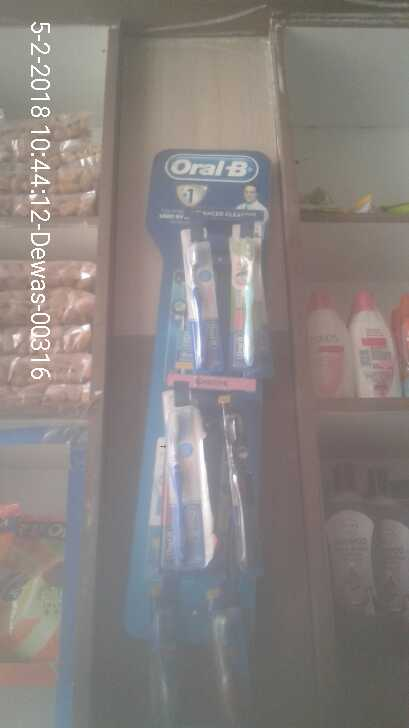oralb: (178, 223, 218, 374), (226, 236, 264, 372)
